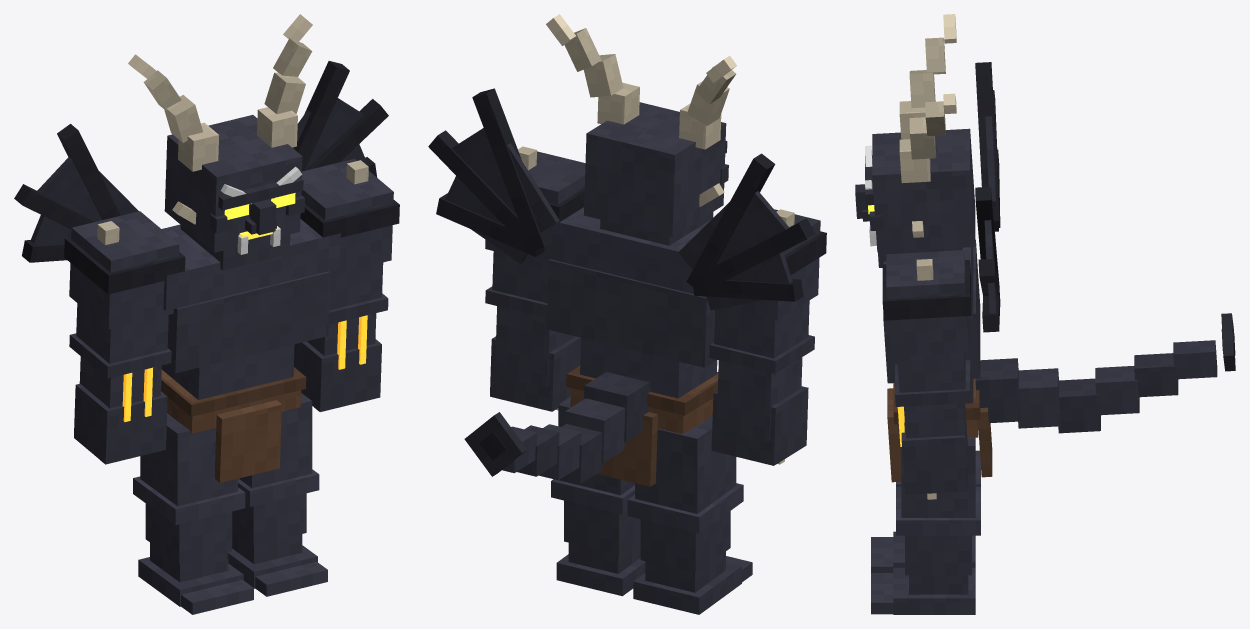
File: demon_base_v3.glb
3 views of the same model, side by side, from view 1: azimuth 30°, elevation 25°; view 2: azimuth 150°, elevation 25°; view 3: azimuth 270°, elevation 25° (orthographic). The views are drawn at different scales.
Parts seen in each view (by area): view 1: Torso, ArmR, Head, ArmL, LegR, LegL; view 2: Torso, Head, ArmR, LegR, ArmL, LegL; view 3: Torso, ArmL, Head, LegL, LegR.
Part boxes in pixels (x1,y1,x2,y2): Torso: [14, 61, 388, 482]; ArmR: [64, 211, 185, 464]; Head: [128, 14, 312, 270]; ArmL: [294, 158, 399, 411]; LegR: [133, 413, 253, 614]; LegL: [228, 393, 327, 596]; Torso: [428, 88, 815, 486]; Head: [546, 14, 736, 245]; ArmR: [709, 209, 826, 465]; LegR: [627, 415, 752, 614]; ArmL: [485, 146, 585, 411]; LegL: [551, 396, 645, 596]; Torso: [883, 62, 1235, 482]; ArmL: [882, 250, 971, 499]; Head: [855, 14, 975, 267]; LegL: [871, 438, 980, 614]; LegR: [871, 450, 980, 572].
Bounding box in the file's own units: 1.58 × 2.2 × 1.44.
28 materials, 28 textured.
